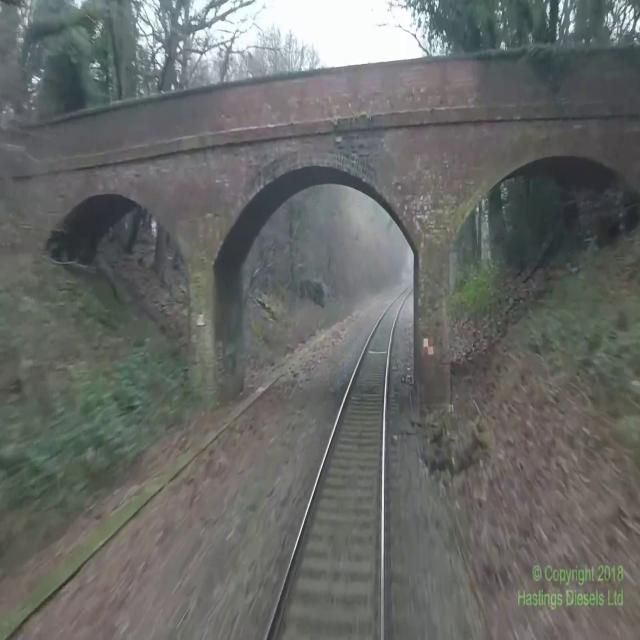rail-track: (267, 286, 412, 639)
